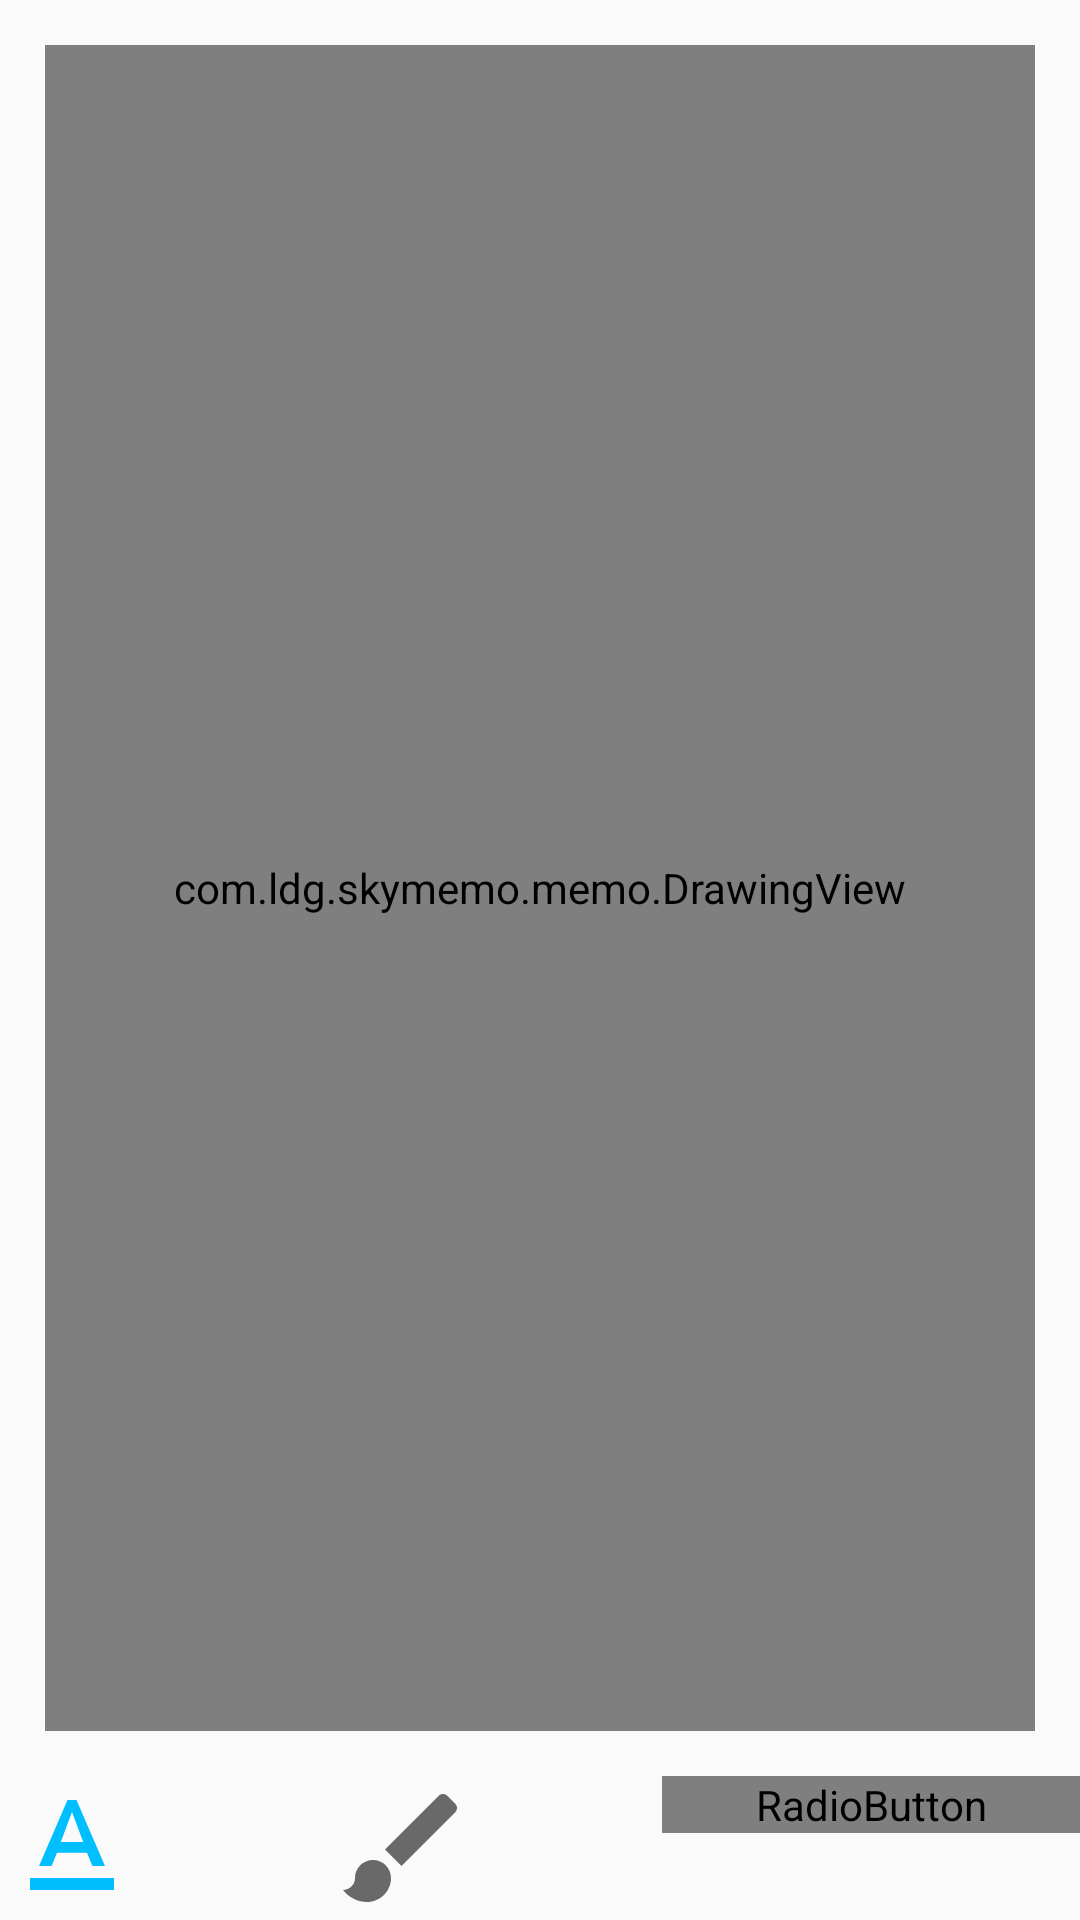

Icon bounding boxes for this 1080×1920 phone screenshot, format (x1, y1, x2, y2):
type: (30, 1800, 114, 1890)
